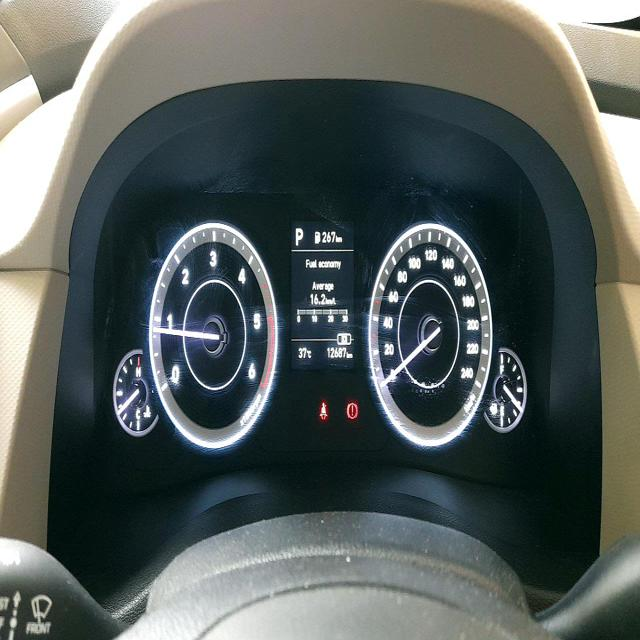odometer: (324, 344, 347, 362)
